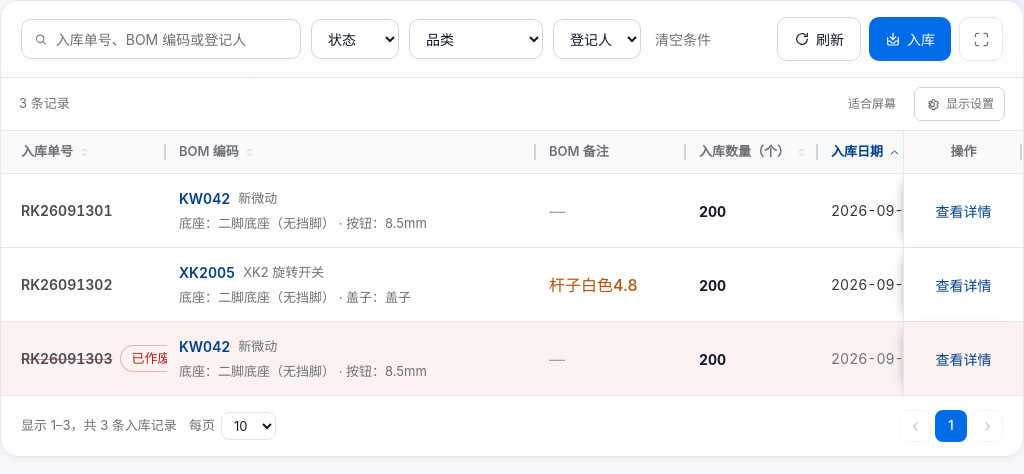
it: 状态筛选：已入库只留有效记录，已作废只留作废记录，清空条件恢复
Select "已作废" in the dropdown named "按状态筛选". click: (355, 39)
box: [311,19,399,59]
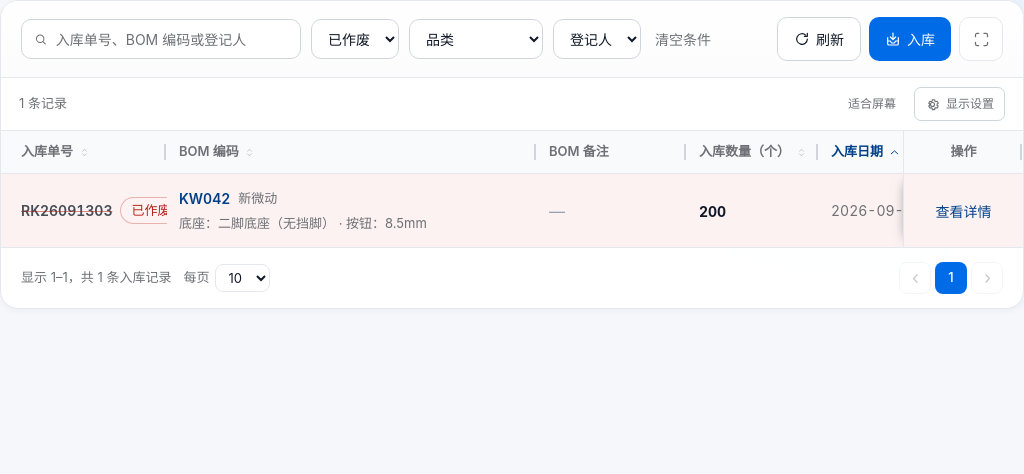
Check: the table shows "RK26091303", box [21,202,112,219]
Check: the table no longer shows "RK26091301", box [1,130,1023,247]
Check: the table no longer shows "RK26091302", box [1,130,1023,247]
Select "已入库" in the dropdown named "按状态筛选". click: (355, 39)
box: [311,19,399,59]
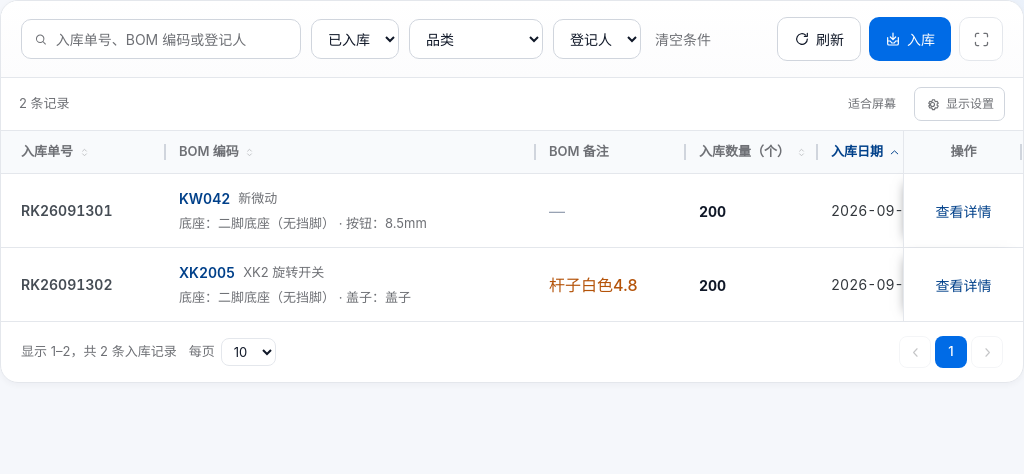
Check: the table no longer shows "RK26091303", box [1,130,1023,321]
Check: the table shows "RK26091301", box [21,202,112,219]
Check: the table shows "RK26091302", box [21,276,112,293]
Click the button "清空条件". click: click(683, 39)
box: [651,19,715,59]
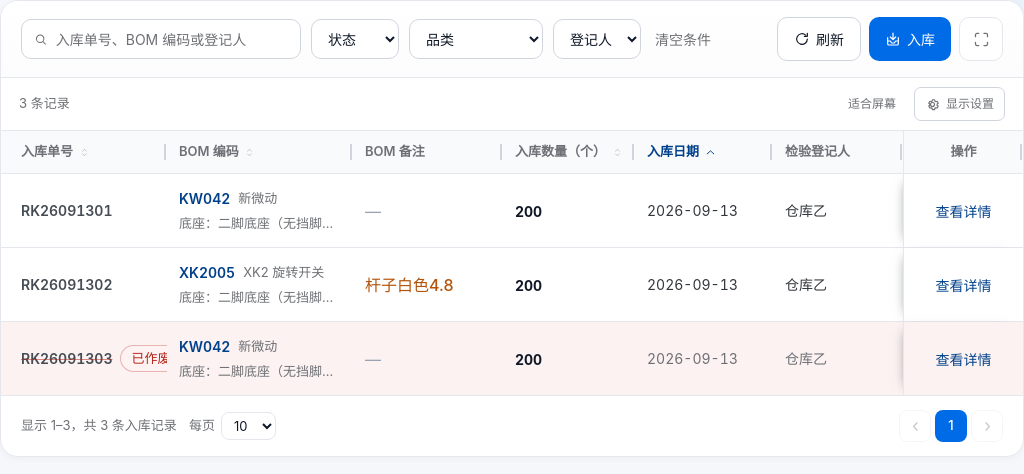
Check: the table shows "RK26091303", box [21,350,112,367]
